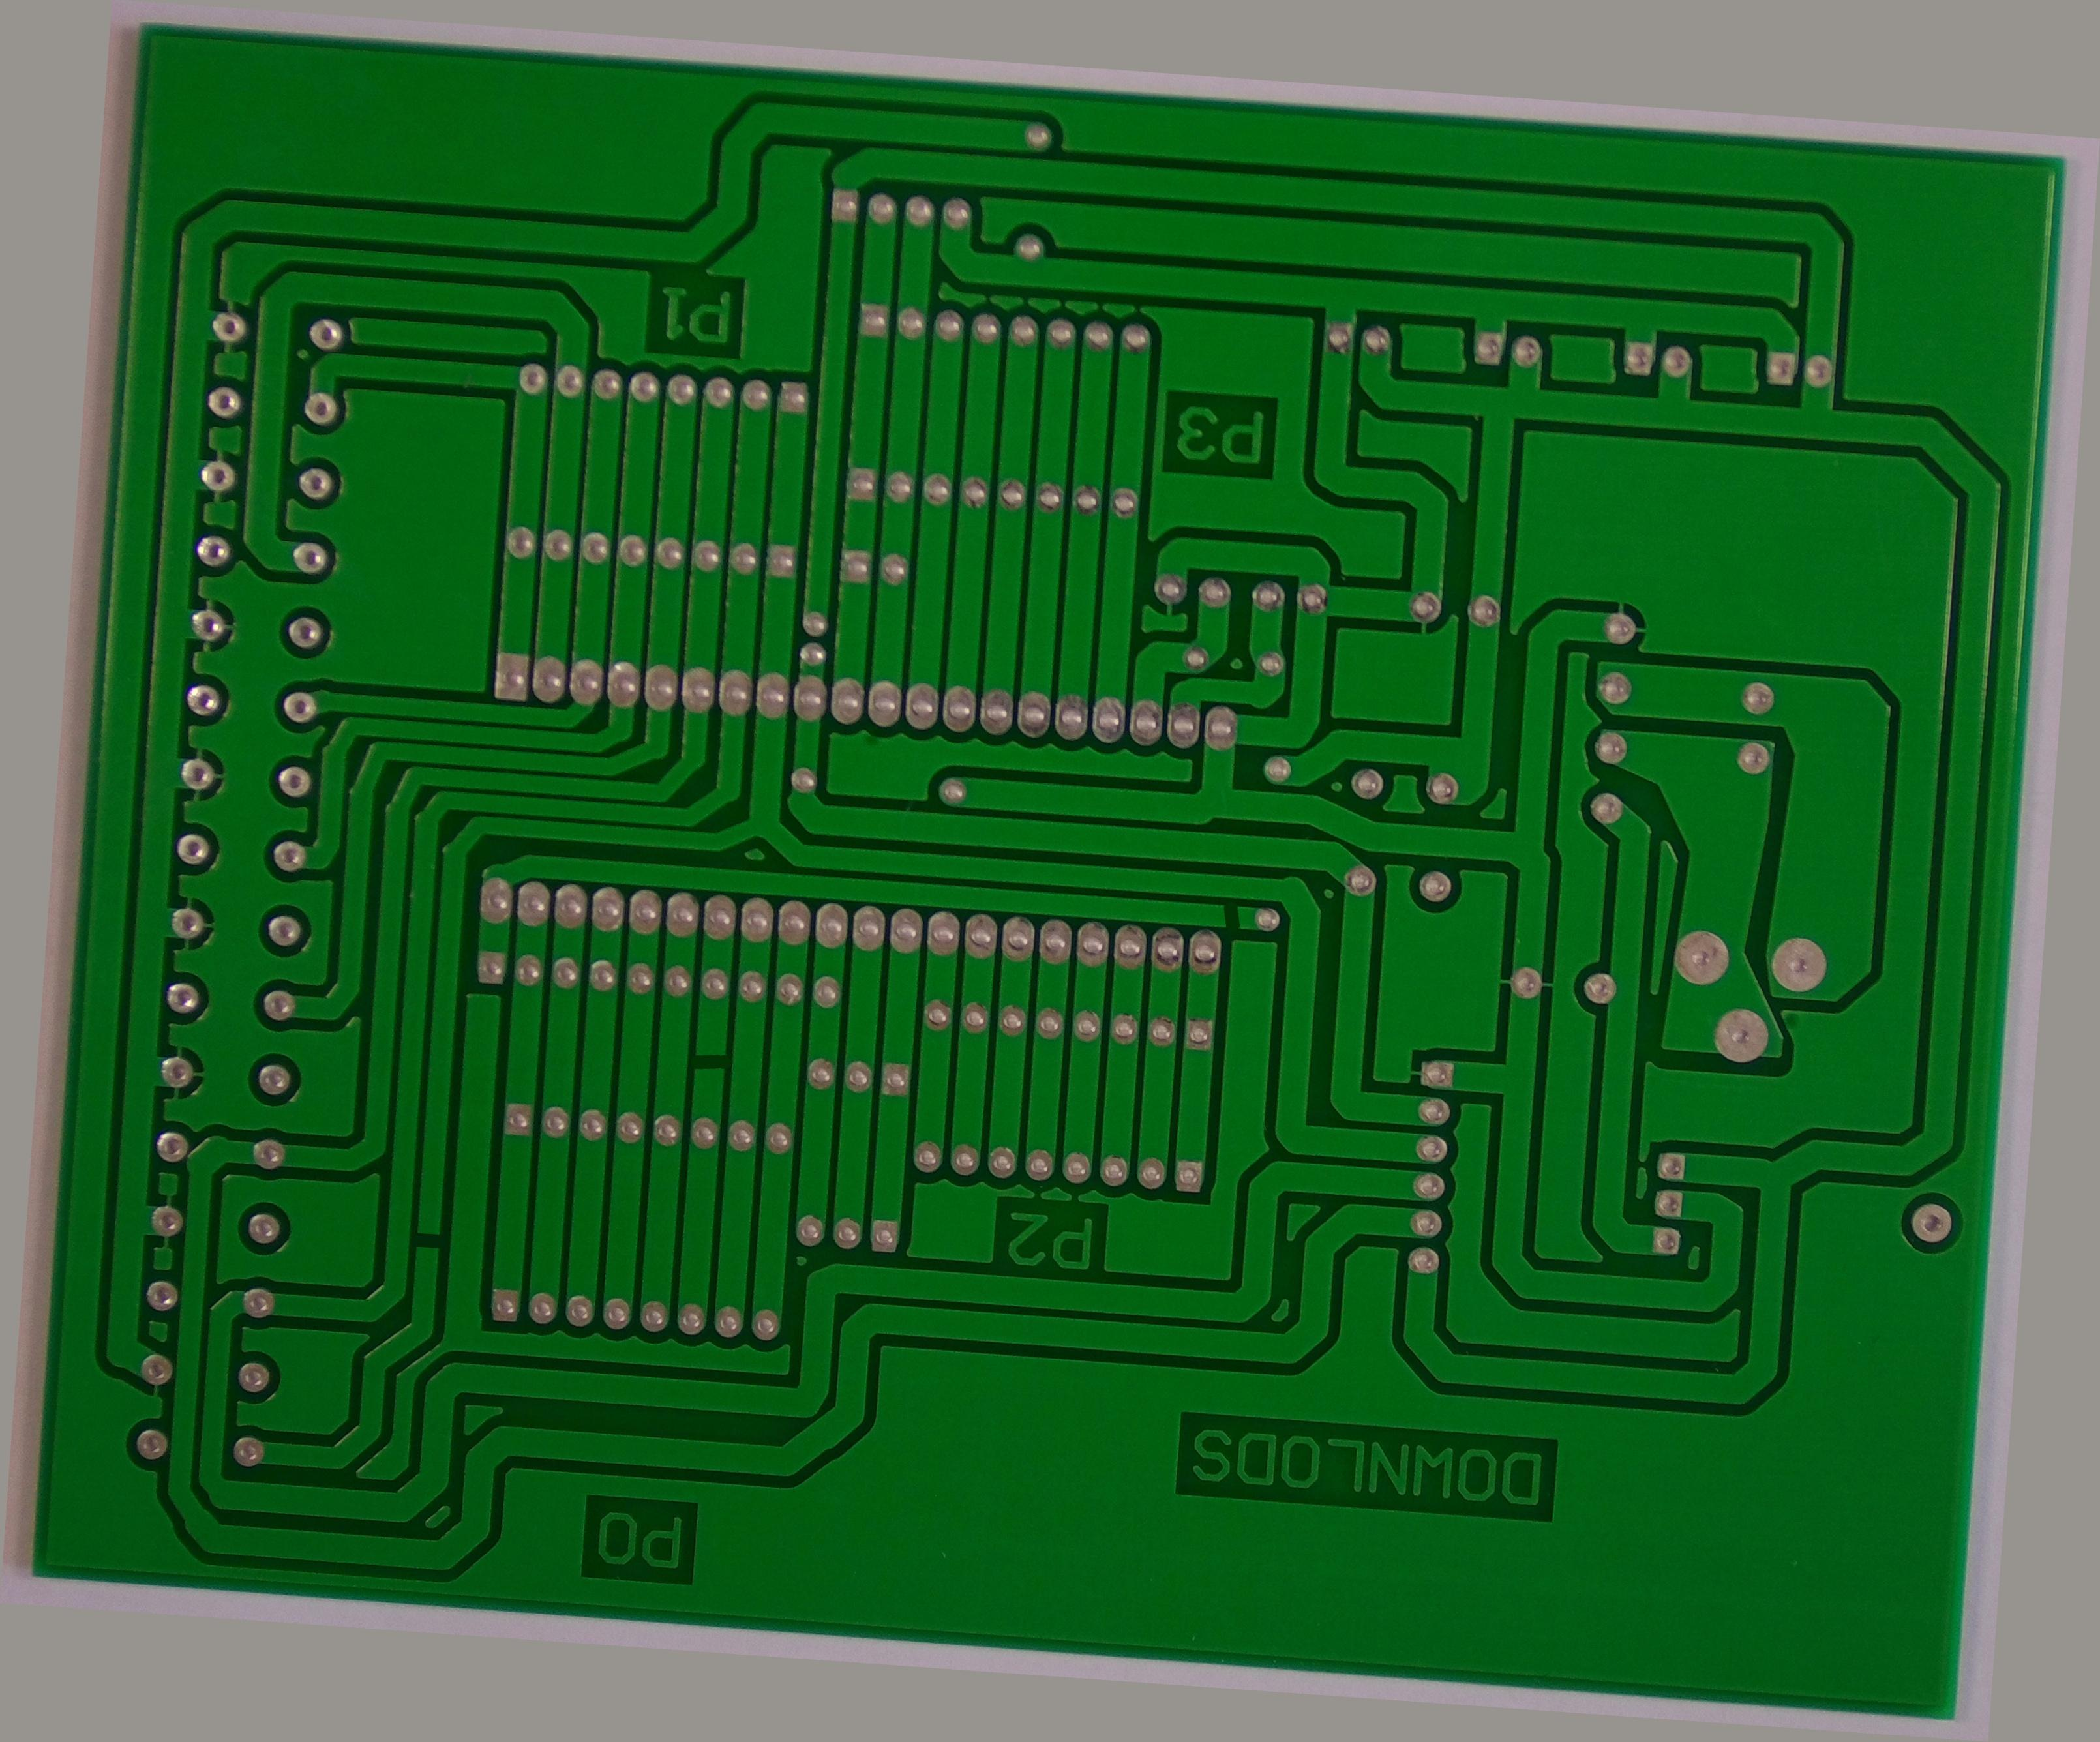open_circuit: (685, 1081, 729, 1121), (1226, 888, 1265, 924), (405, 1301, 443, 1334)
